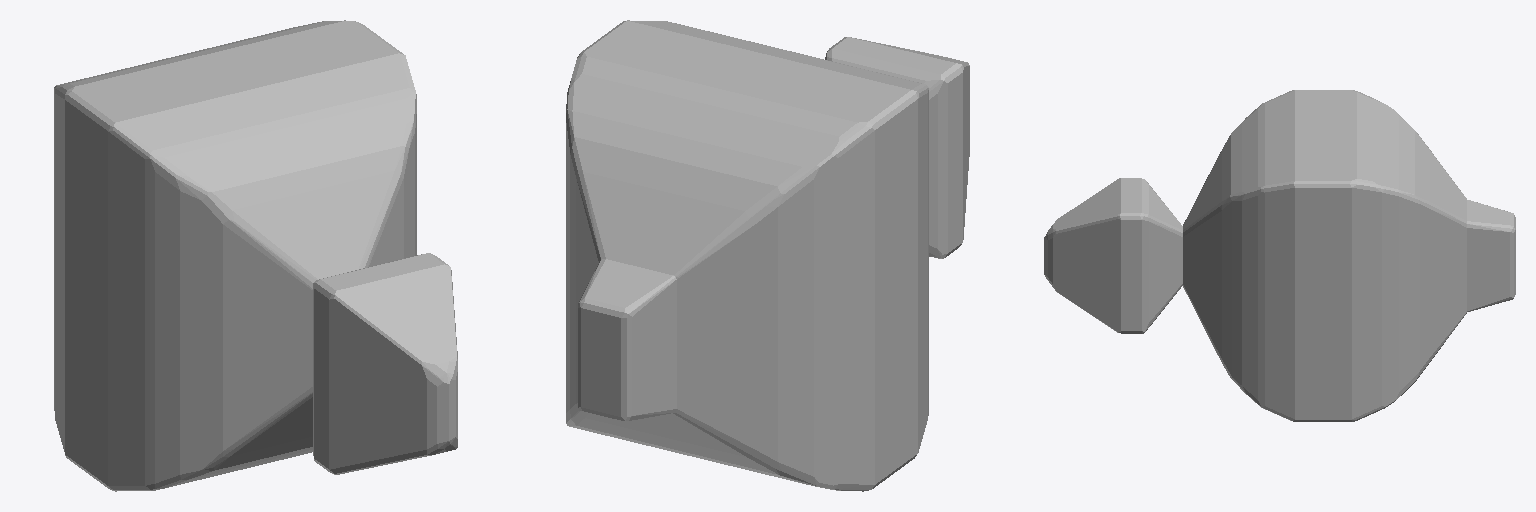
URDF robot description (root):
<?xml version="1.0"?>
<robot name="root">
  <link name="base_link">
    <visual>
      <origin xyz="0 0 0" rpy="0 0 0" />
      <geometry>
        <mesh filename="../meshes/unidex_core_jar-365d864e8c58391e62a510b8f97c658e_006.obj" scale="1.0000E+00 1.0000E+00 1.0000E+00" />
      </geometry>
      <material name="">
        <color rgba="7.50E-01 7.50E-01 7.50E-01 1" />
      </material>
    </visual>
    <collision>
      <origin xyz="0 0 0" rpy="0 0 0" />
      <geometry>
        <mesh filename="../meshes/unidex_core_jar-365d864e8c58391e62a510b8f97c658e_006.obj" scale="1.0000E+00 1.0000E+00 1.0000E+00" />
      </geometry>
    </collision>
  </link>
</robot>

--- What the picture shows (computed from the rendered views, not written in the file) ---
Views: 3 orthographic renders of the robot side by side, from view 1: azimuth 30°, elevation 25°; view 2: azimuth 150°, elevation 25°; view 3: azimuth 270°, elevation 25°.
Model root with 1 links and 0 joints (none), rooted at base_link, posed all joints at 0.
Visible links, largest first — view 1: base_link; view 2: base_link; view 3: base_link.
Link boxes in pixels (left/top/right/bottom): base_link: left=54, top=20, right=457, bottom=491; base_link: left=566, top=20, right=969, bottom=491; base_link: left=1044, top=90, right=1515, bottom=421.
Size in the robot's own frame: 0.0553 by 0.1157 by 0.0654 metres.
Meshes: 1 distinct files referenced, 1 mesh visuals loaded (1 OBJ).
